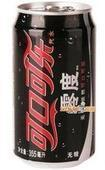coke_zero: (11, 2, 96, 168)
